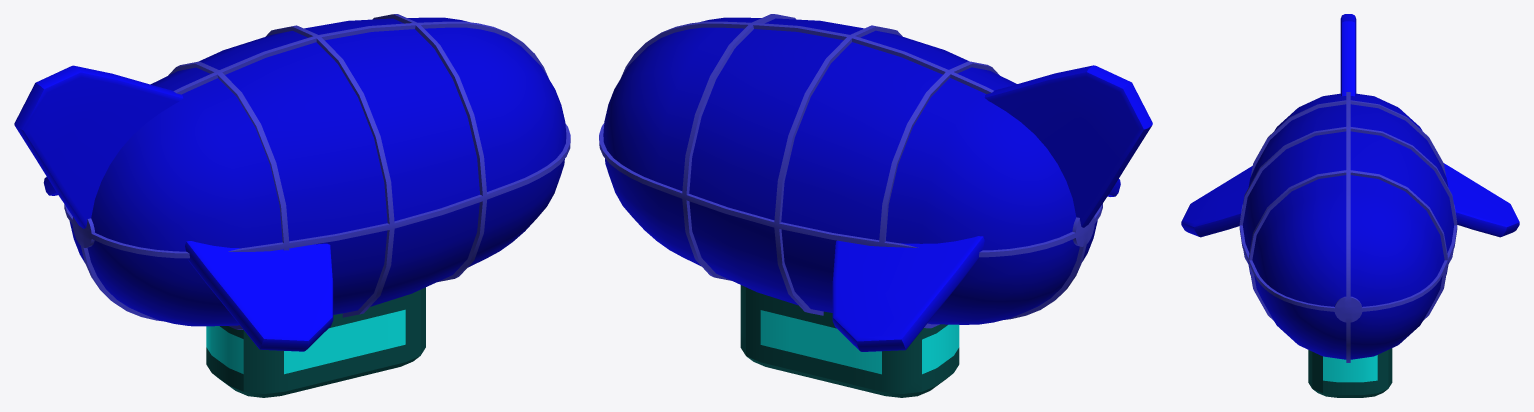
Rendered from Blimp.fbx.
3 views of the same model, side by side, from view 1: azimuth 30°, elevation 25°; view 2: azimuth 150°, elevation 25°; view 3: azimuth 270°, elevation 25° (orthographic). The views are drawn at different scales.
Visible parts, largest first — view 1: Blimp_Full_Group2; view 2: Blimp_Full_Group2; view 3: Blimp_Full_Group2.
Part boxes in pixels (x1,y1,x2,y2): Blimp_Full_Group2: (14,14,570,397); Blimp_Full_Group2: (599,14,1152,397); Blimp_Full_Group2: (1181,14,1519,397).
Bounding box in the file's own units: 29.01 × 18.36 × 21.73.
